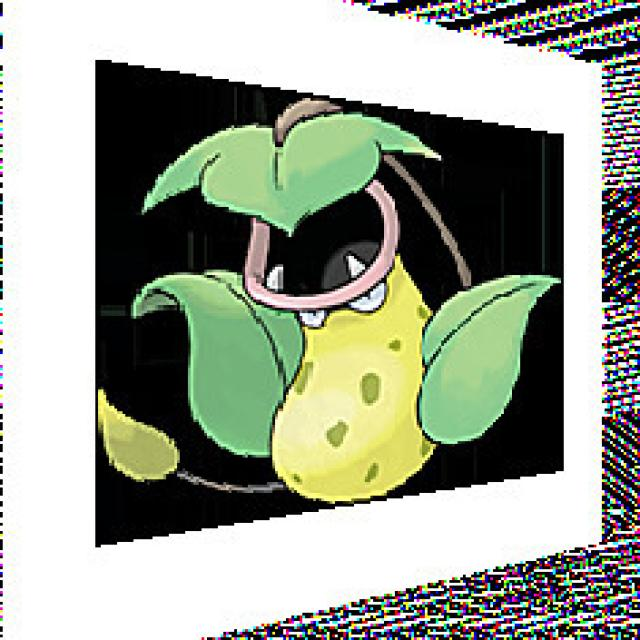Victreebel: (220, 142, 458, 506)
